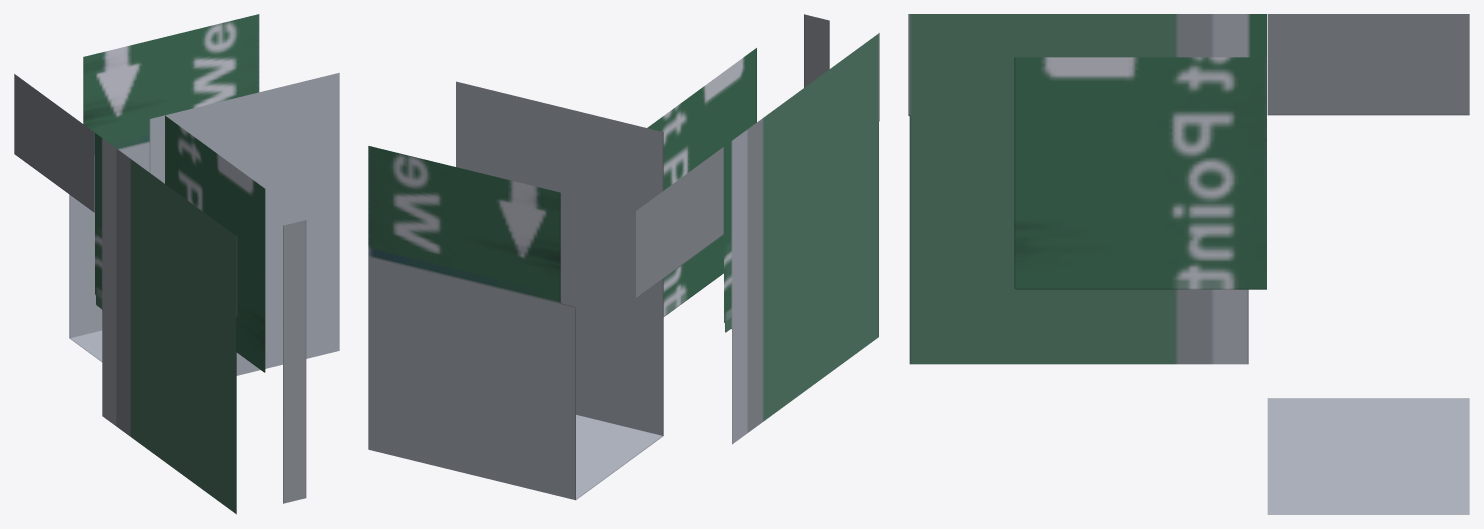
Rendered from section-1.obj.
3 renders of one model, left to right at view 1: azimuth 30°, elevation 25°; view 2: azimuth 150°, elevation 25°; view 3: azimuth 270°, elevation 25°, orthographic. The views are drawn at different scales.
Size of the model in its own units: 0.763 by 0.828 by 1.2.
